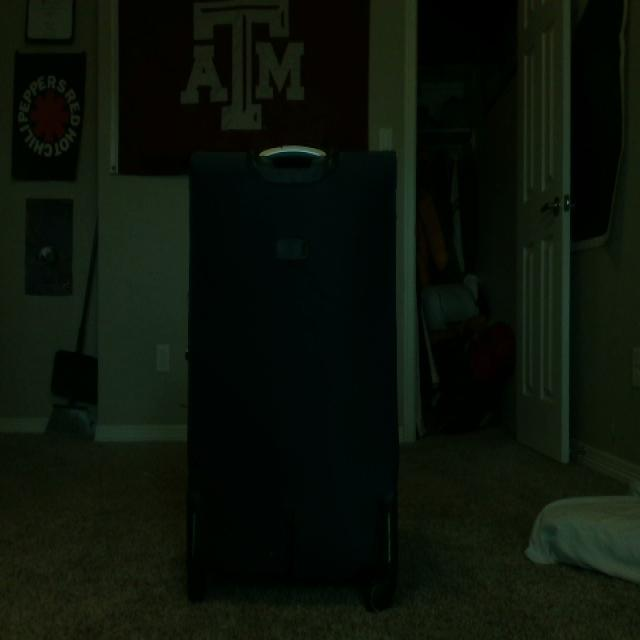suitcase: (184, 143, 402, 611)
